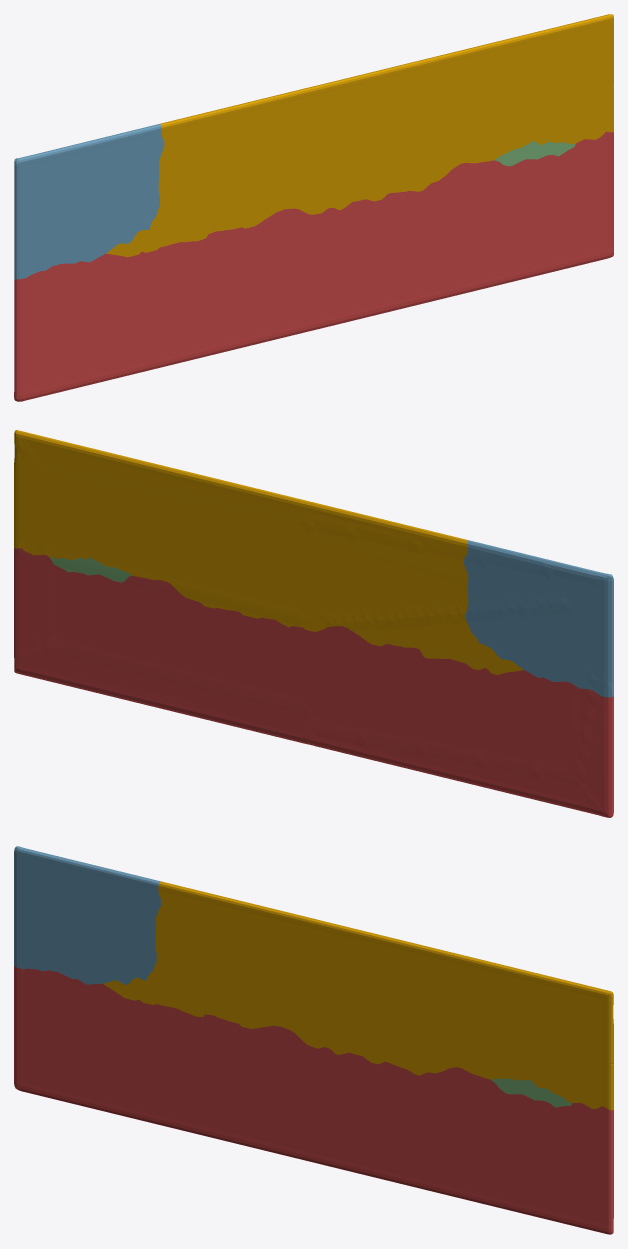
File: mode_3_4pcs.glb
3 views of the same model, one above another, from view 1: azimuth 30°, elevation 25°; view 2: azimuth 150°, elevation 25°; view 3: azimuth 330°, elevation 25° (orthographic).
Visible parts, largest first — view 1: piece_1.obj, piece_0.obj, piece_2.obj, piece_3.obj; view 2: piece_1.obj, piece_0.obj, piece_2.obj, piece_3.obj; view 3: piece_1.obj, piece_0.obj, piece_2.obj, piece_3.obj.
Boxes of the visible parts, left/top/right/bottom form: piece_1.obj: left=14, top=131, right=613, bottom=401; piece_0.obj: left=106, top=14, right=613, bottom=257; piece_2.obj: left=14, top=124, right=164, bottom=279; piece_3.obj: left=494, top=141, right=575, bottom=166; piece_1.obj: left=14, top=548, right=613, bottom=817; piece_0.obj: left=14, top=430, right=523, bottom=674; piece_2.obj: left=463, top=540, right=613, bottom=697; piece_3.obj: left=49, top=557, right=131, bottom=582; piece_1.obj: left=14, top=966, right=613, bottom=1234; piece_0.obj: left=103, top=881, right=613, bottom=1110; piece_2.obj: left=14, top=846, right=160, bottom=984; piece_3.obj: left=491, top=1078, right=572, bottom=1107.
Bounding box in the file's own units: 1 × 0.3887 × 0.0104.
